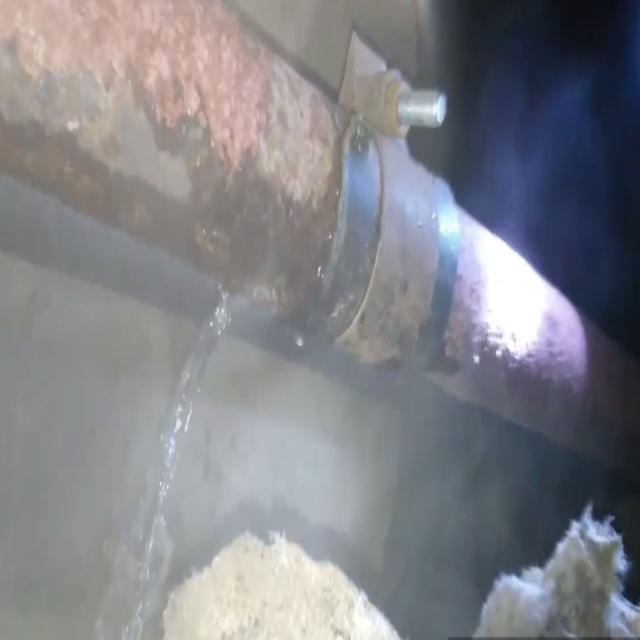leak: (95, 293, 230, 638)
